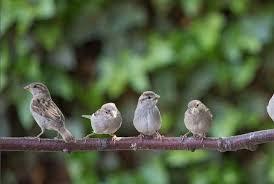hsparrow: (20, 78, 75, 151), (81, 97, 123, 149), (132, 90, 168, 145), (180, 95, 214, 148)
